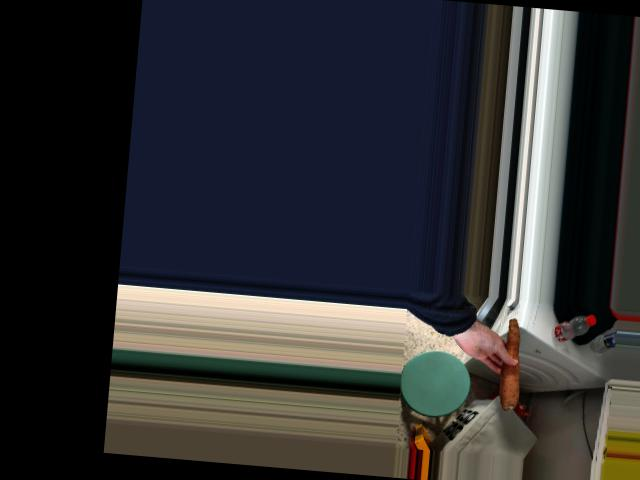sweet_potato: (490, 316, 526, 408)
